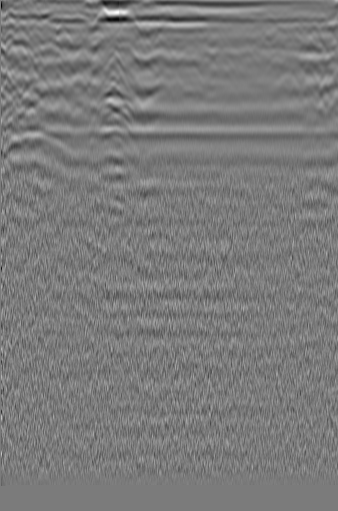가스: (87, 125, 135, 161)
상수: (0, 35, 38, 69)
오수: (296, 20, 327, 57)
우수: (141, 23, 175, 55)
